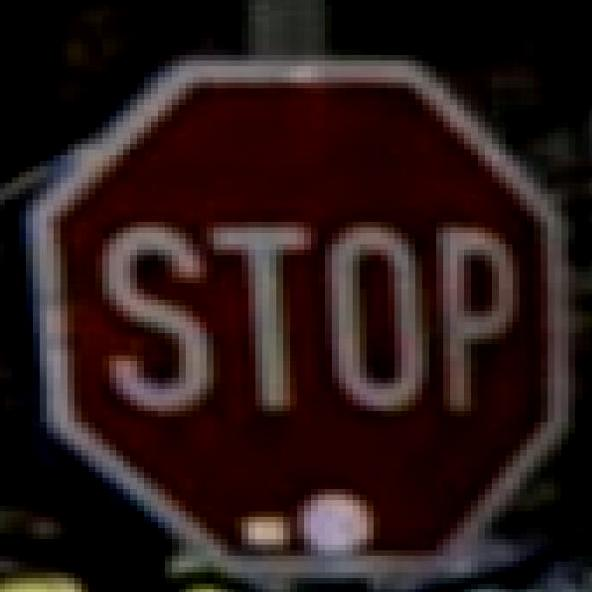stop_sign: (0, 18, 592, 592)
